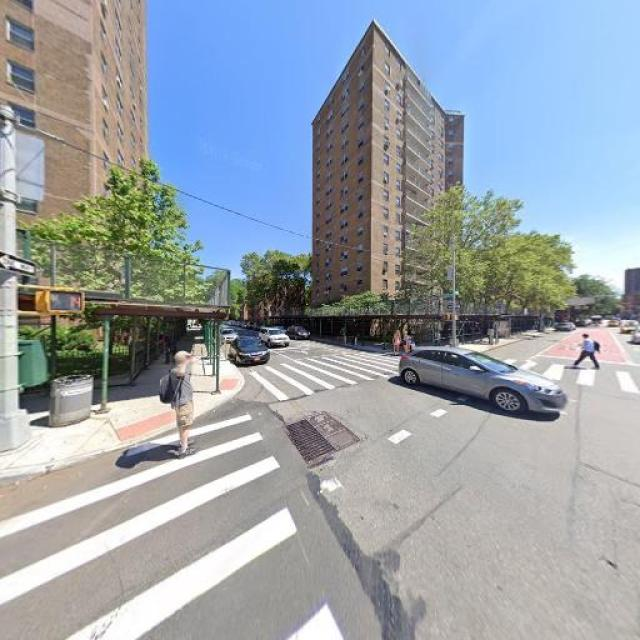Building: (1, 1, 140, 357), (315, 24, 422, 343)
